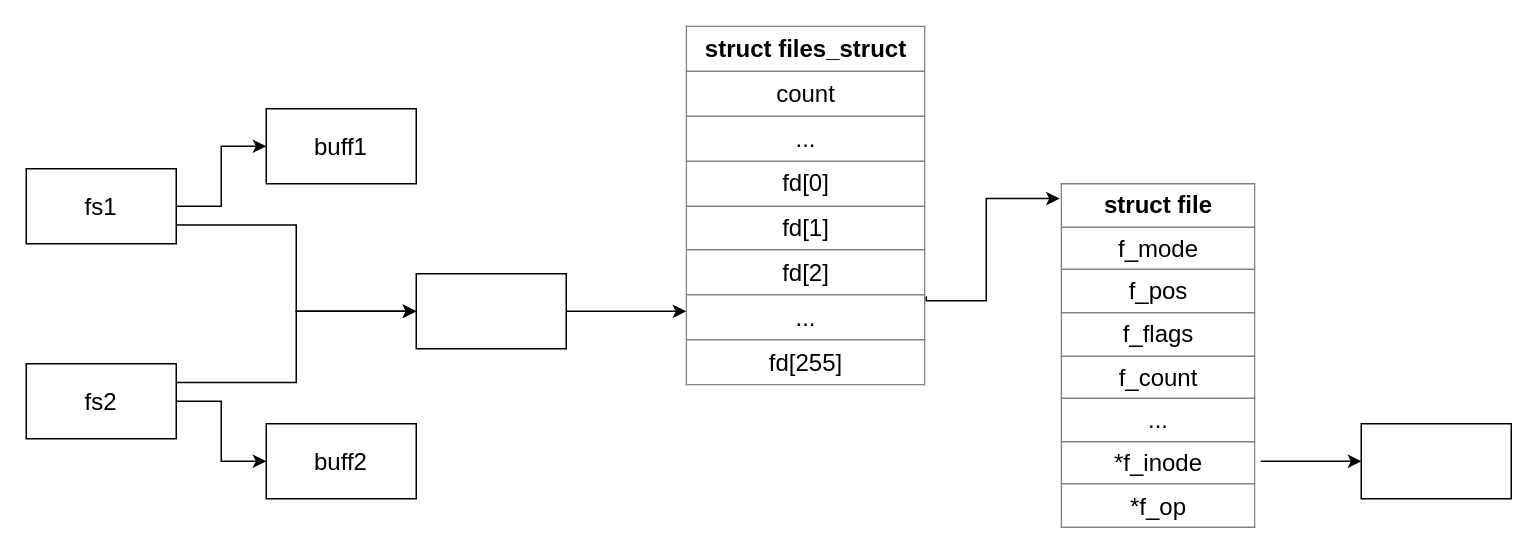
The diagram is 1538 pixels wide and 554 high, and some of its shapes have lost their labels. The box of each missing label's shape, as (x1, y1, x2, y2) in pixels:
fd(_fileno): (415, 272, 566, 349)
file inode: (1360, 422, 1511, 499)
